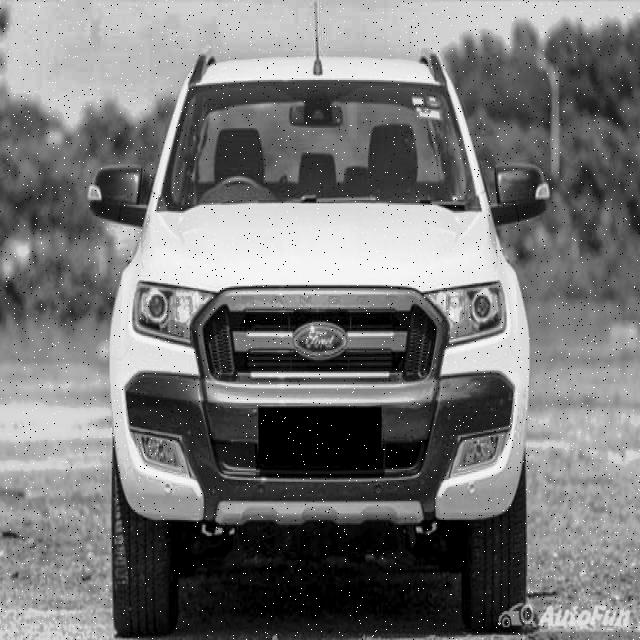Car: (72, 17, 566, 640)
